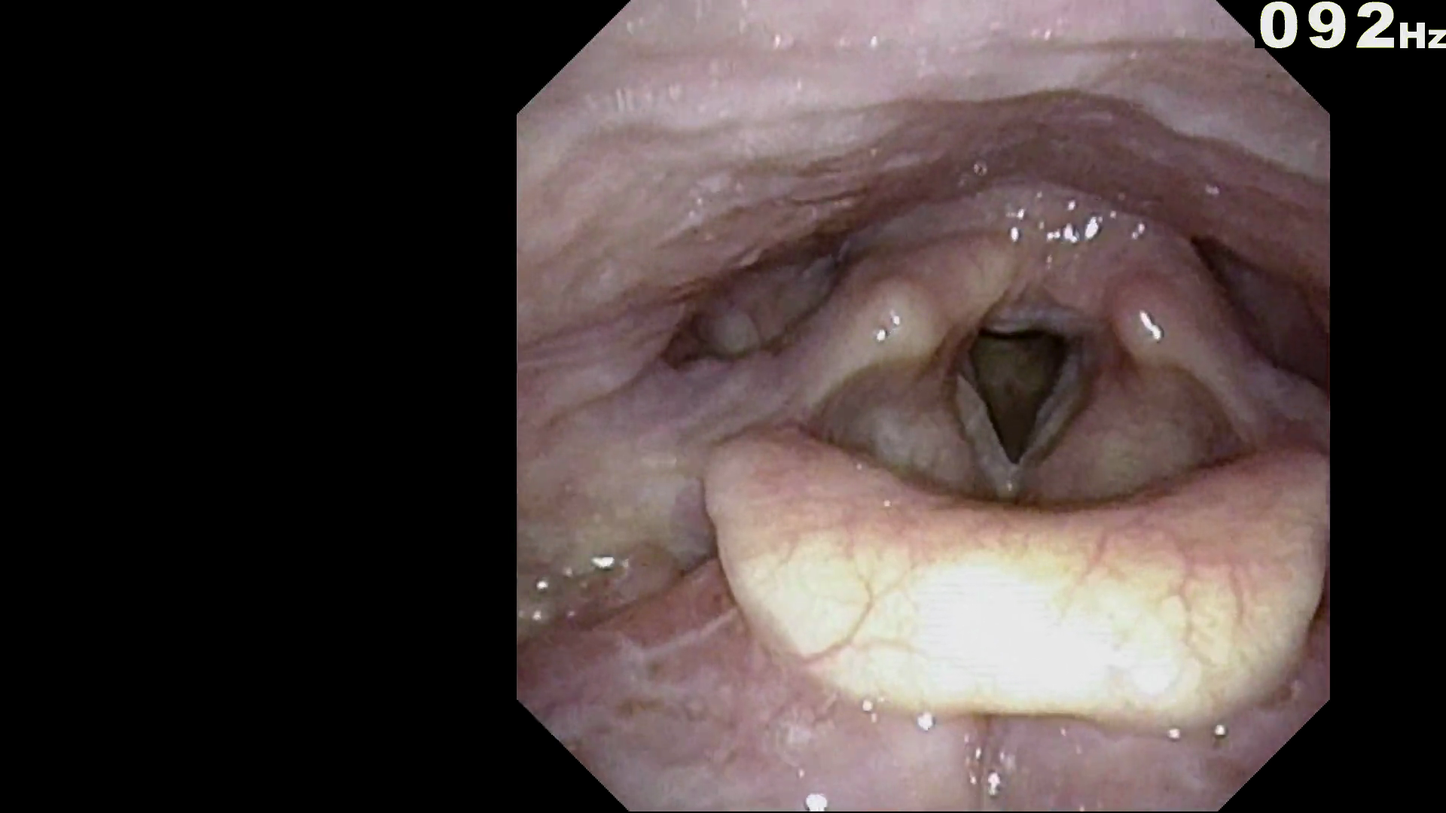epiglottis: (692, 424, 1310, 708)
trachea: (926, 295, 1105, 505)
